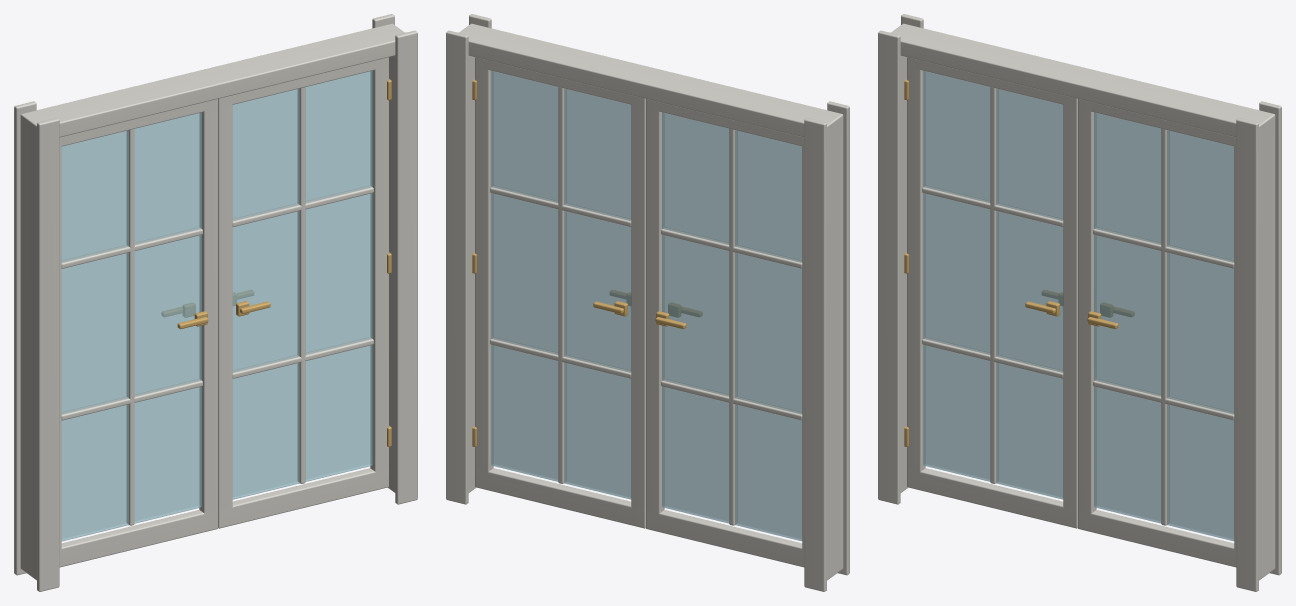
Rendered from door-french.glb.
The picture shows the model from 3 angles, left to right: view 1: azimuth 30°, elevation 25°; view 2: azimuth 150°, elevation 25°; view 3: azimuth 330°, elevation 25°; orthographic projection.
Parts seen in each view (by area): view 1: Door glazing.002, Door glazing.003, Lintel.010, Architrave.042, Architrave.040, Jamb.020, Stile.006, Stile.005, Stile.007, Rail.006, Rail.004, Glazing bar.003 (+10 smaller); view 2: Door glazing.002, Door glazing.003, Lintel.010, Architrave.043, Architrave.041, Jamb.020, Stile.005, Stile.006, Stile.007, Rail.006, Rail.004, Glazing bar (+10 smaller); view 3: Door glazing.003, Door glazing.002, Lintel.010, Architrave.040, Architrave.042, Jamb.021, Stile.007, Stile.004, Stile.005, Rail.004, Rail.006, Glazing bar.003 (+10 smaller).
Part boxes in pixels (x1,y1,x2,y2): Door glazing.002: (61,112,201,541); Door glazing.003: (232,71,372,499); Lintel.010: (21,23,404,137); Architrave.042: (395,30,417,504); Architrave.040: (37,118,59,591); Jamb.020: (20,115,36,580); Stile.006: (370,57,388,482); Stile.005: (199,99,217,523); Stile.007: (218,95,232,520); Rail.006: (218,468,388,528); Rail.004: (59,510,217,567); Glazing bar.003: (297,87,305,483); Door glazing.002: (662,112,802,541); Door glazing.003: (491,71,631,499); Lintel.010: (459,23,843,137); Architrave.043: (446,30,468,504); Architrave.041: (804,118,826,591); Jamb.020: (827,116,843,580); Stile.005: (646,99,664,523); Stile.006: (475,57,493,482); Stile.007: (631,95,645,520); Rail.006: (475,468,645,528); Rail.004: (646,510,804,567); Glazing bar: (729,129,737,525); Door glazing.003: (1094,112,1234,541); Door glazing.002: (923,71,1063,499); Lintel.010: (891,23,1275,137); Architrave.040: (878,30,900,504); Architrave.042: (1236,118,1258,591); Jamb.021: (1259,116,1275,580); Stile.007: (1078,99,1096,521); Stile.004: (907,58,925,482); Stile.005: (1063,95,1077,520); Rail.004: (907,468,1077,528); Rail.006: (1078,510,1236,567); Glazing bar.003: (1161,129,1169,525).
Size of the model in its own units: 1.83 by 2.16 by 0.215.
